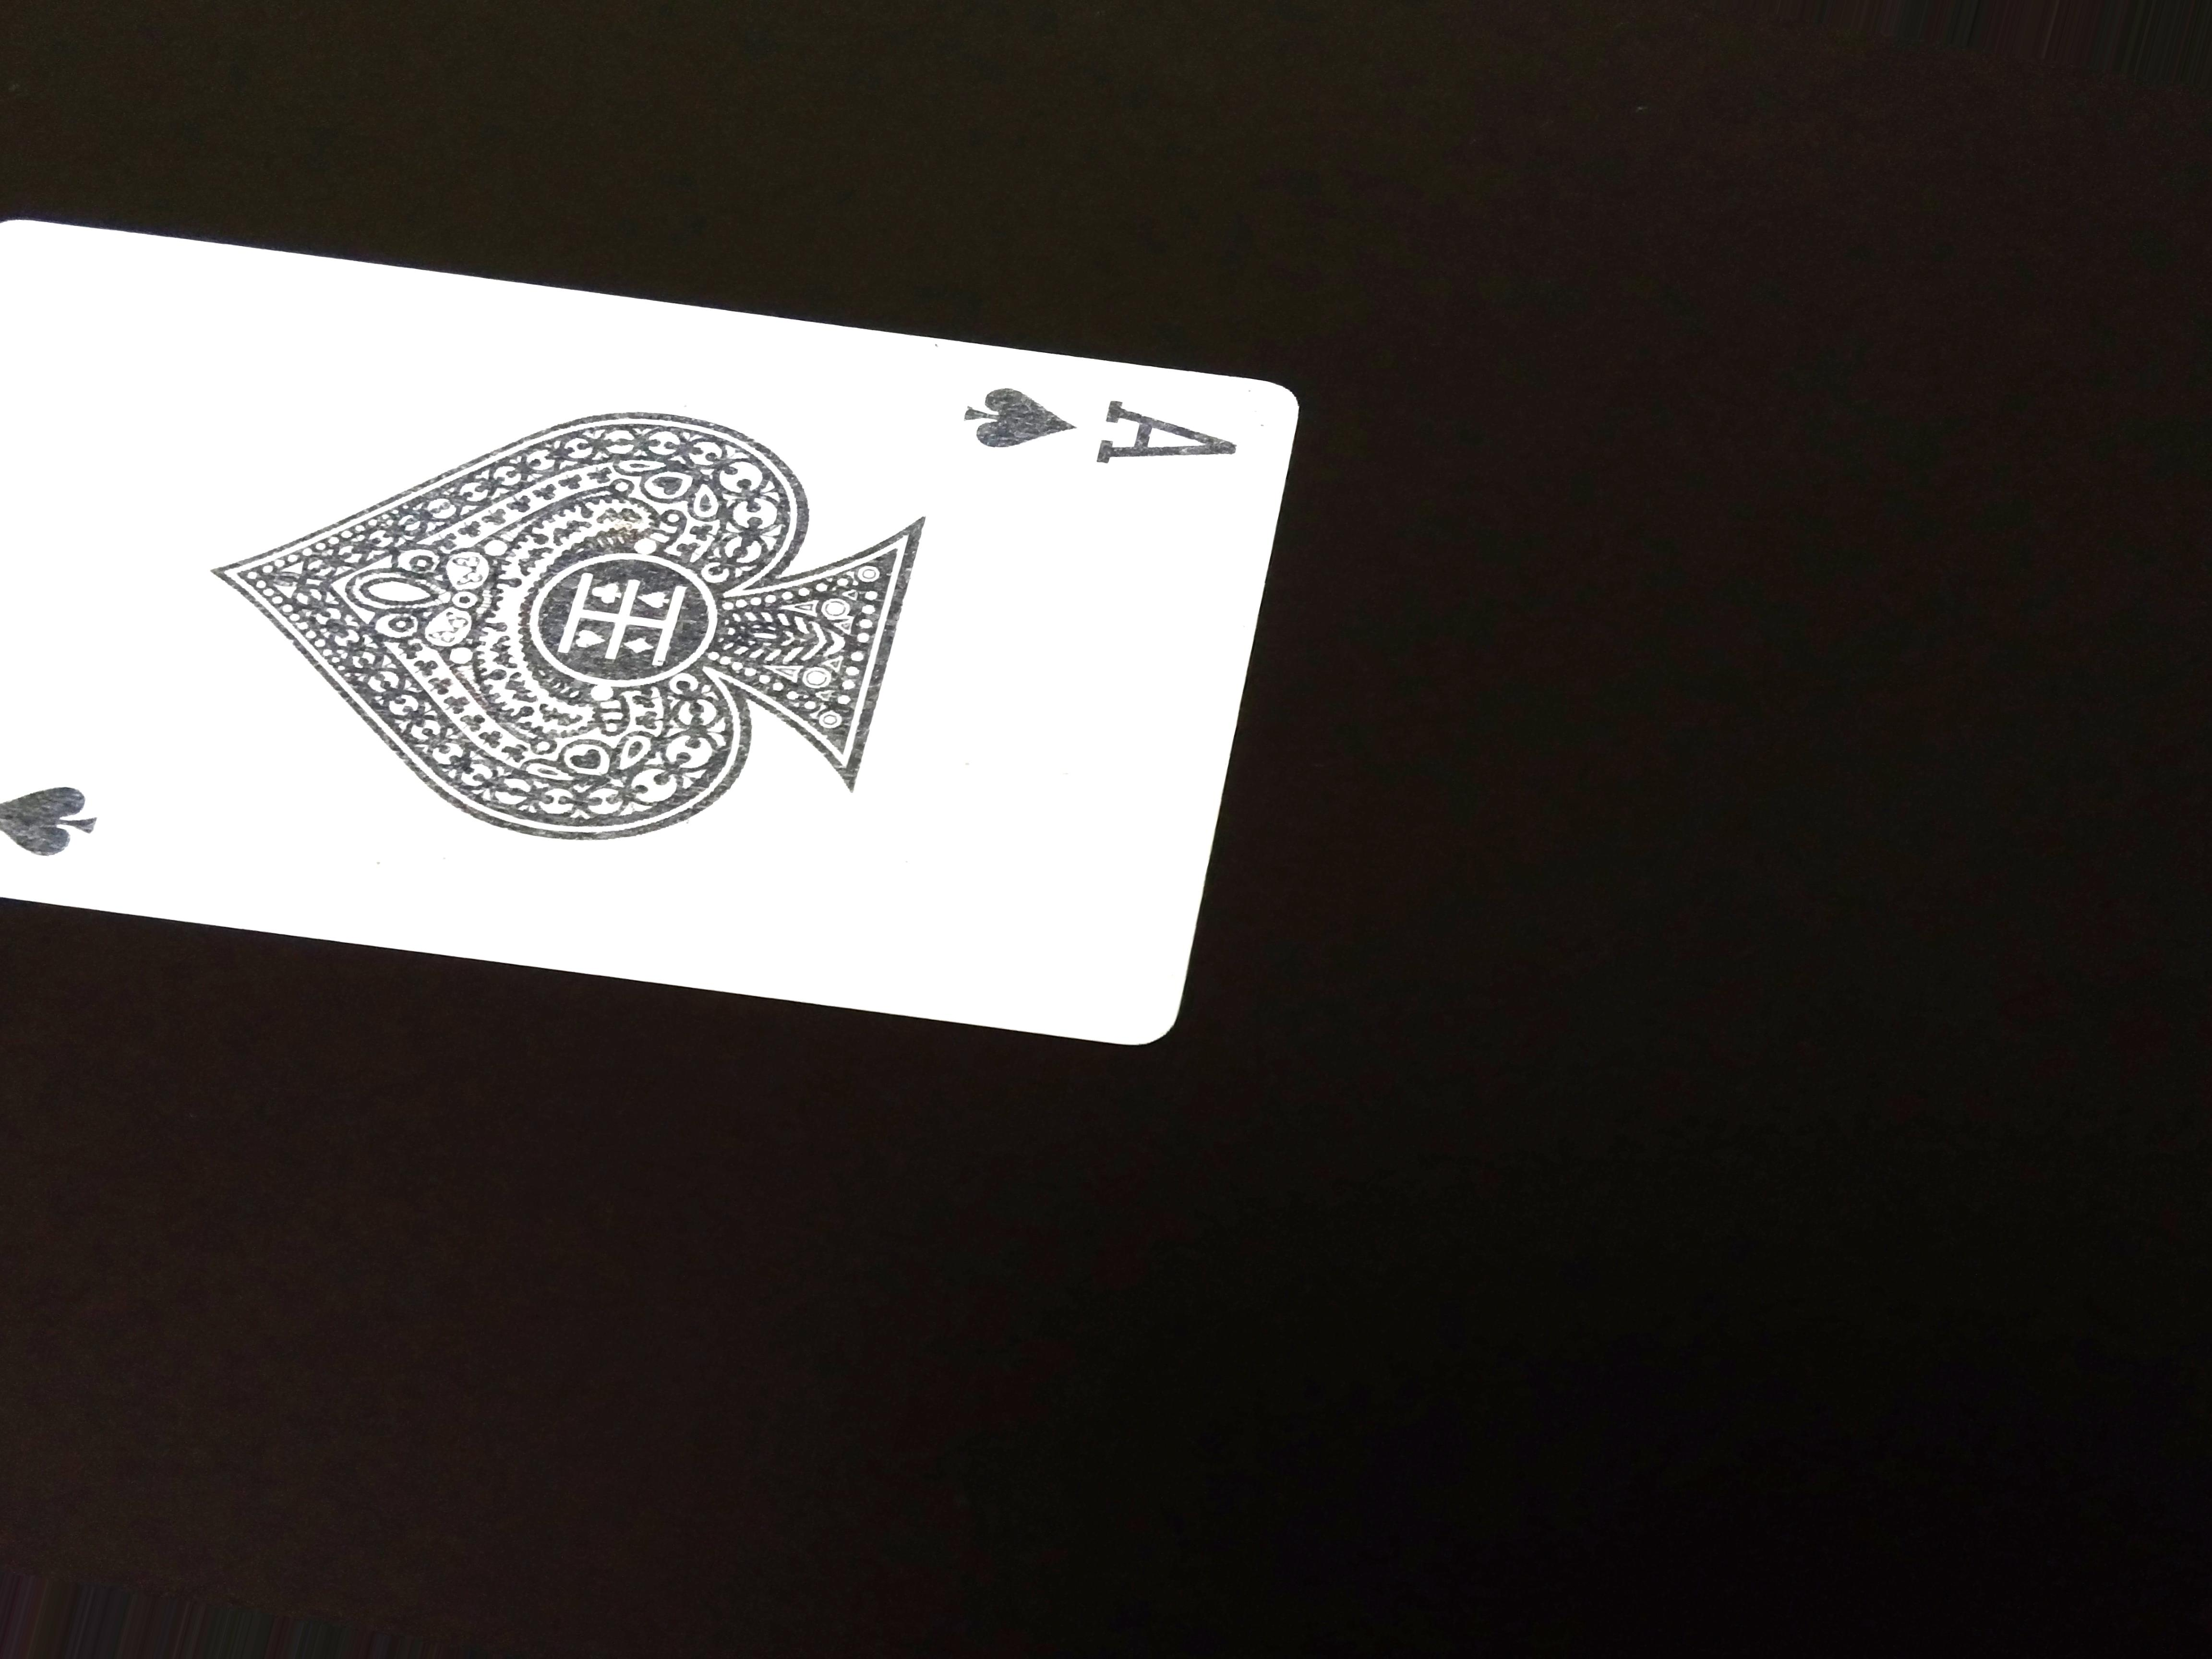AS: (958, 373, 1240, 504)
